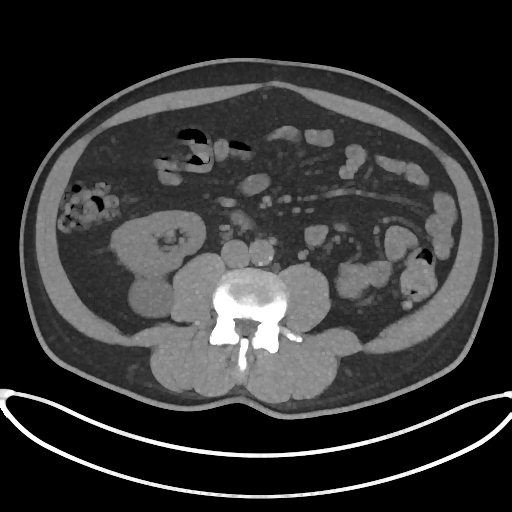Lesion: (129, 275, 174, 318)
